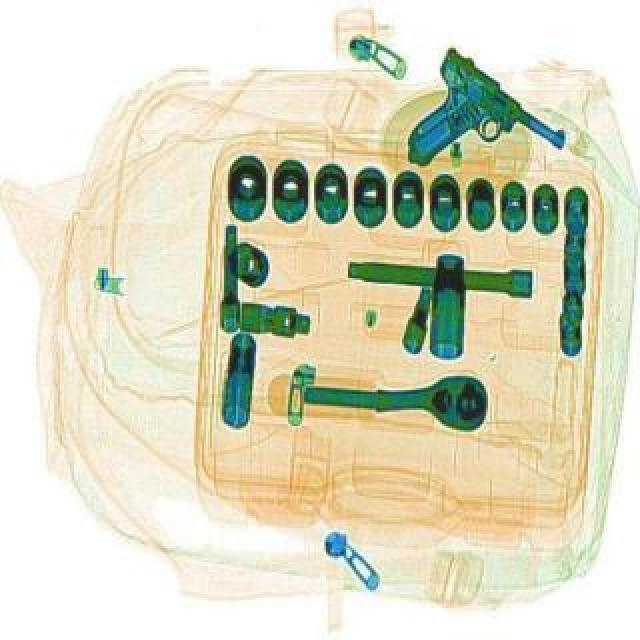gun: (378, 50, 578, 226)
